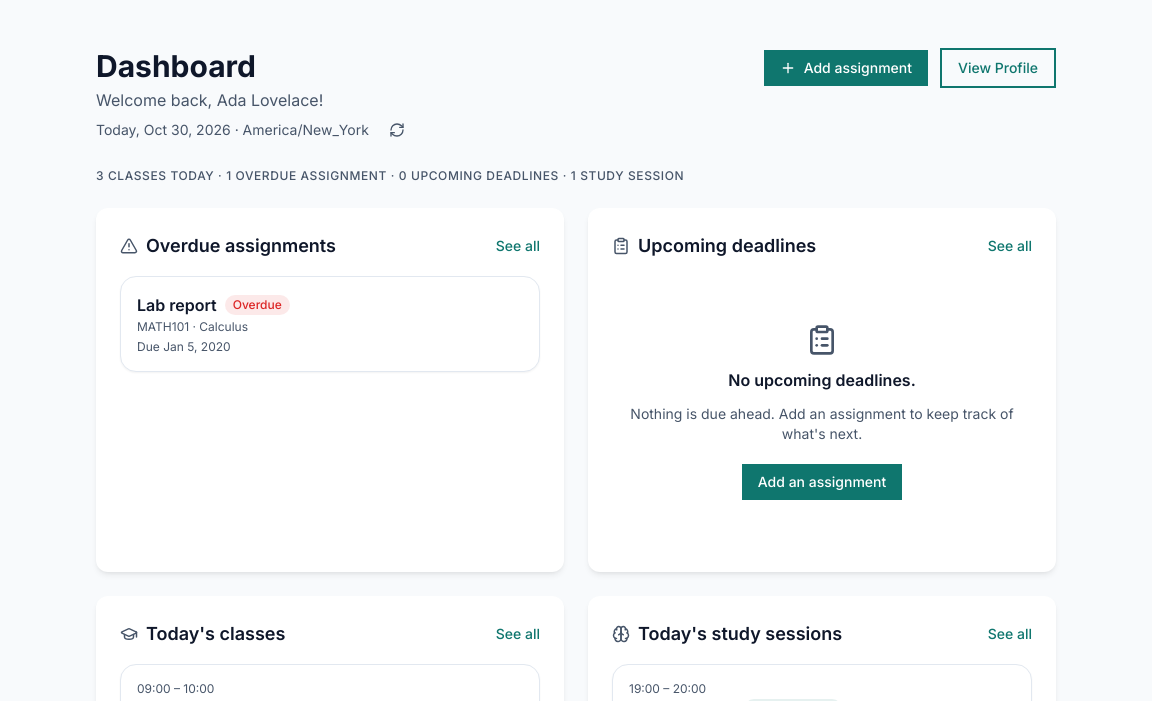
Scenario: DashboardPage (EP05C) › opens exactly one dialog from the quick action and creates the assignment end to end
Expected: the button "Lab report" is shown, left=137, top=293, right=217, bottom=317
Click the button "Add assignment" at (846, 68), box left=764, top=50, right=928, bottom=86
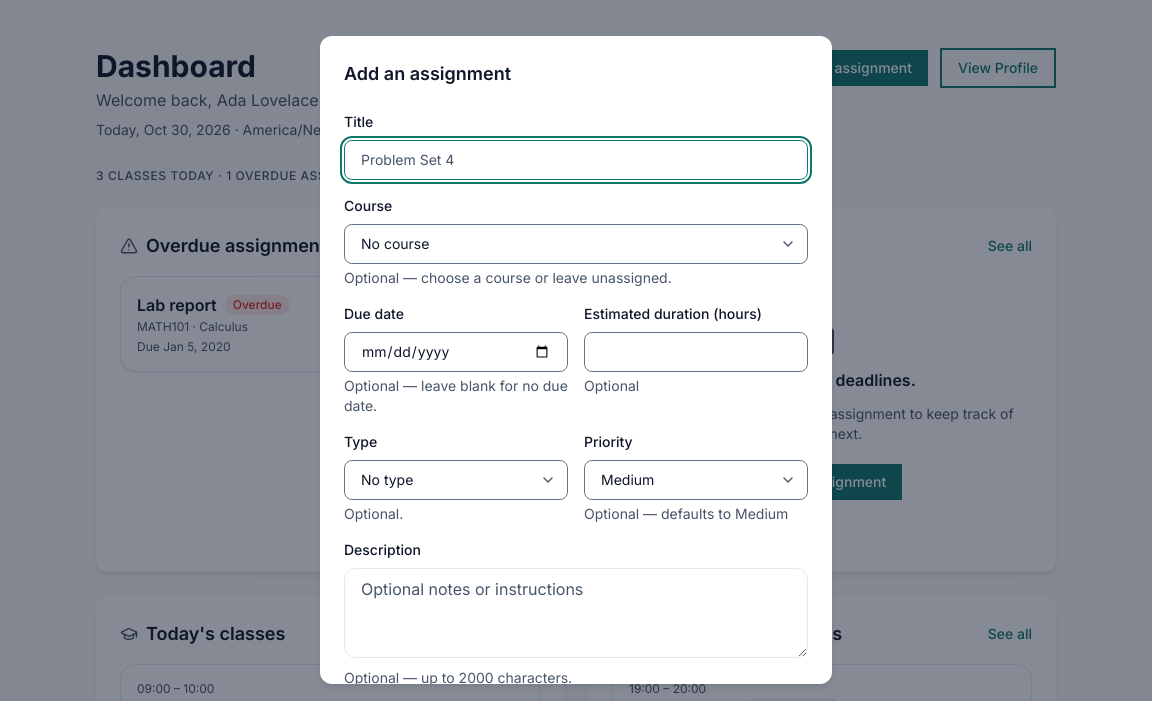
Result: the number of dialogs is 1 at left=320, top=36, right=832, bottom=684
Type "Reading list" into the field labelled "Title" at (576, 160), box left=344, top=140, right=808, bottom=180
(page scrolled)
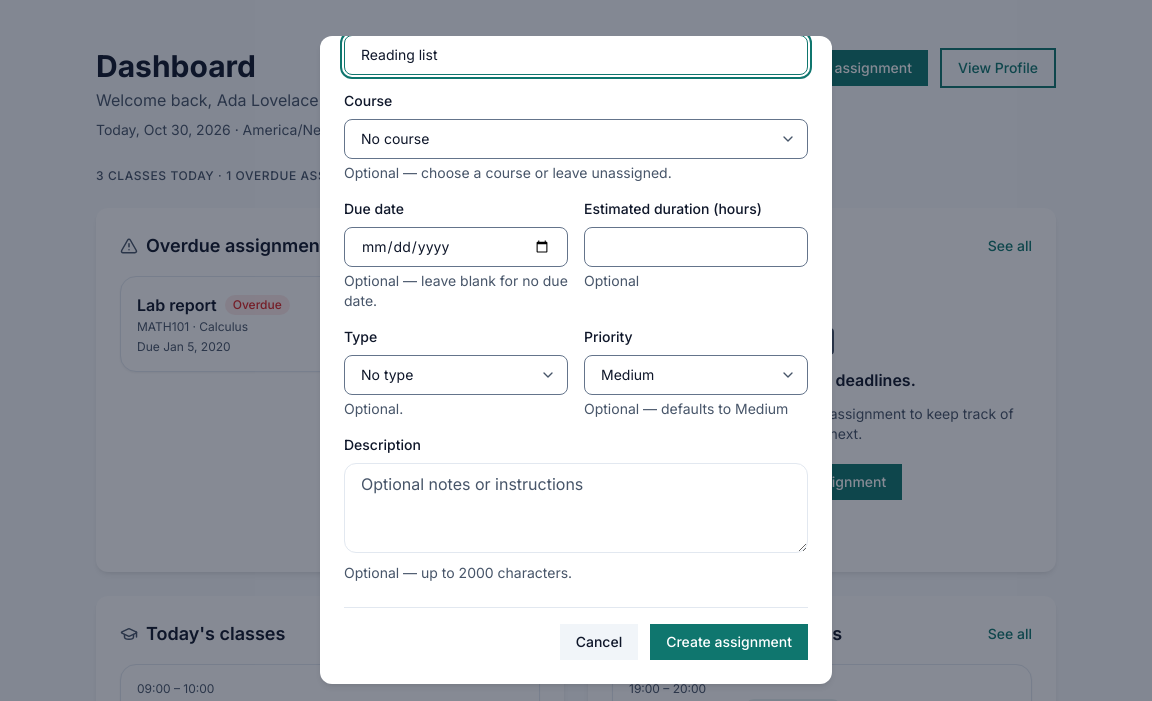
Click the button "Create assignment" at (729, 642), box left=650, top=624, right=808, bottom=660
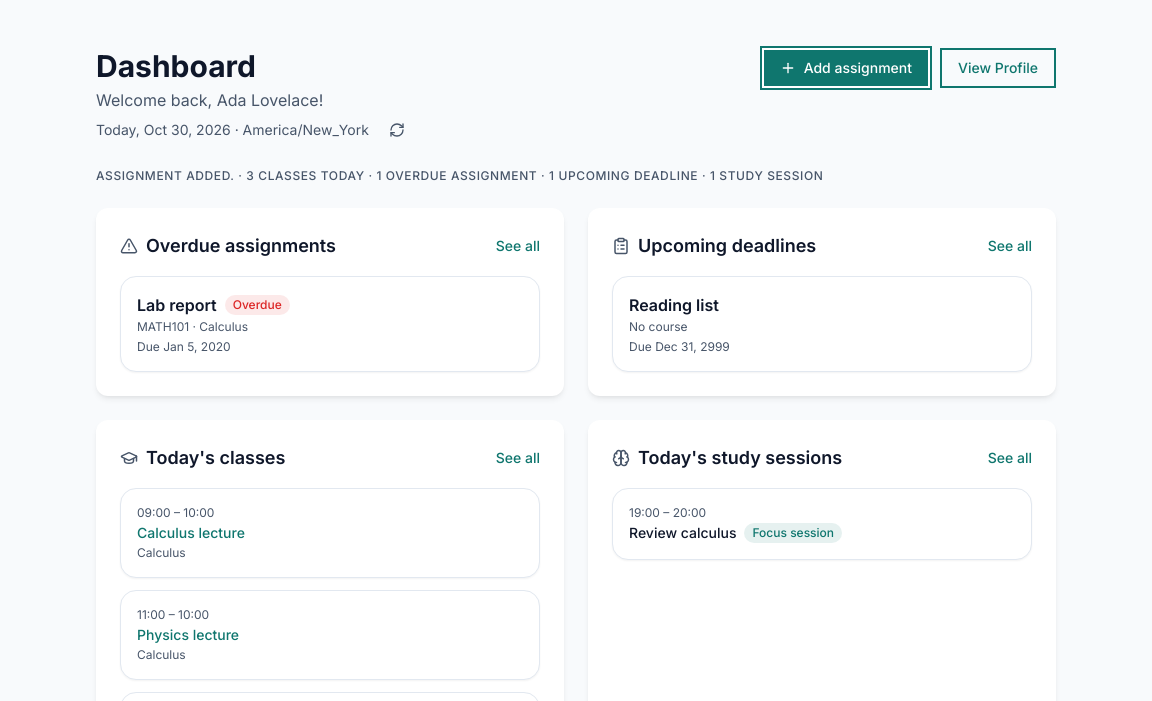
Result: the dialog is gone
Result: the button "Reading list" is shown at left=629, top=293, right=719, bottom=317
